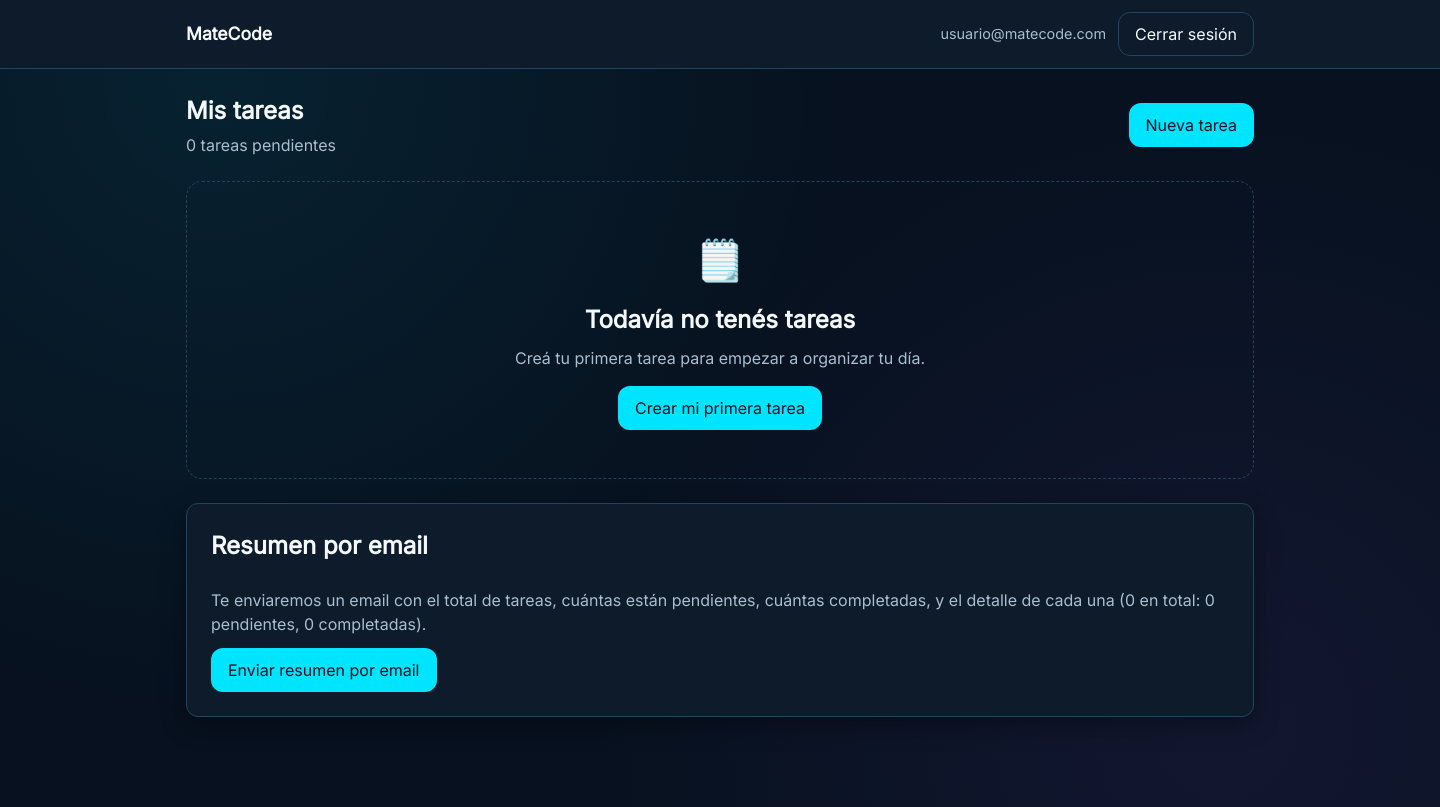
Scenario: TasksPage › no permite tener abiertos a la vez el formulario de creación y el de edición
This screenshot has width=1440, height=807.
Check: the heading "Todavía no tenés tareas" is shown, box [585, 305, 855, 334]
Click the button "Nueva tarea" at (1191, 125), box [1128, 103, 1254, 147]
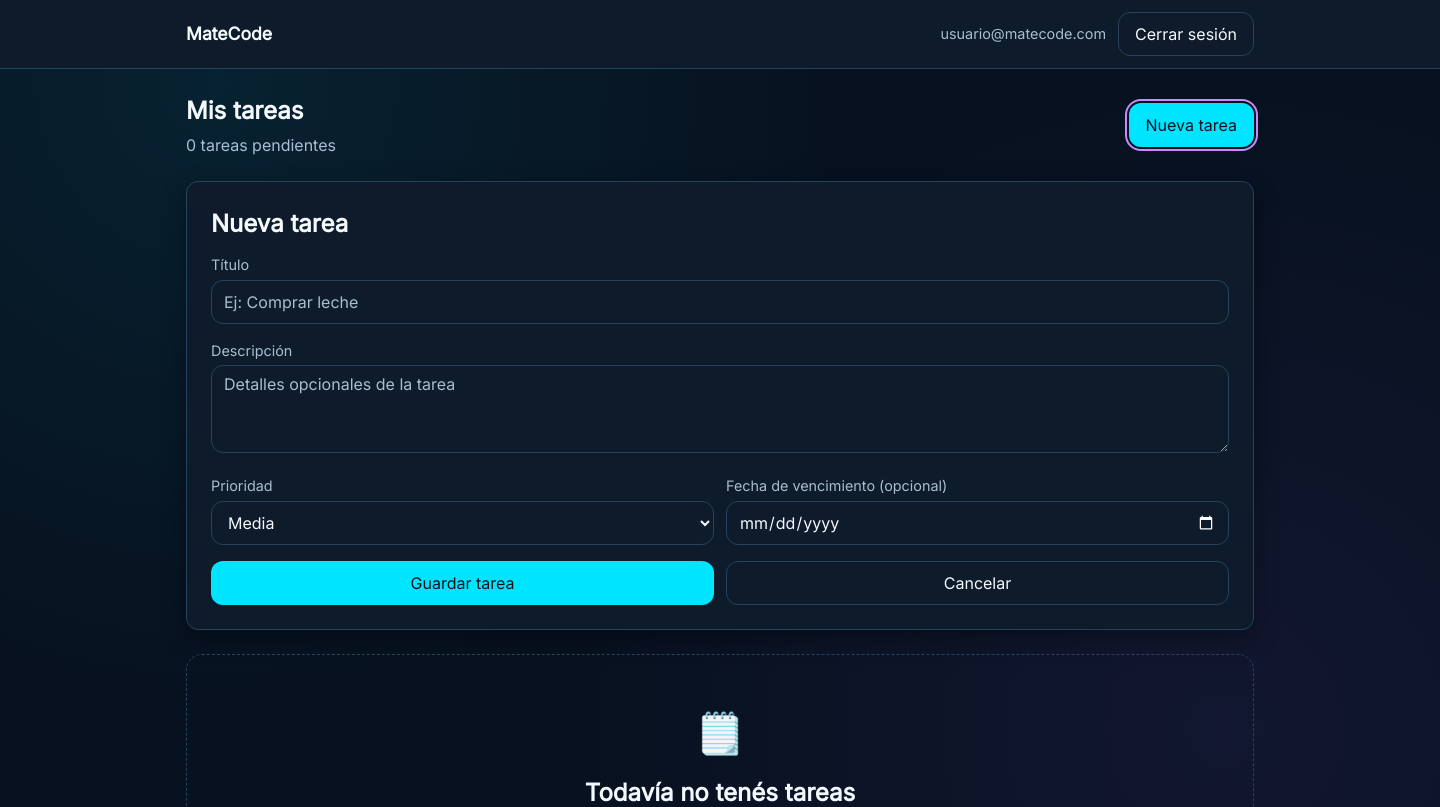
Type "Comprar leche" into the field labelled "Título" at (720, 302), box [211, 280, 1229, 324]
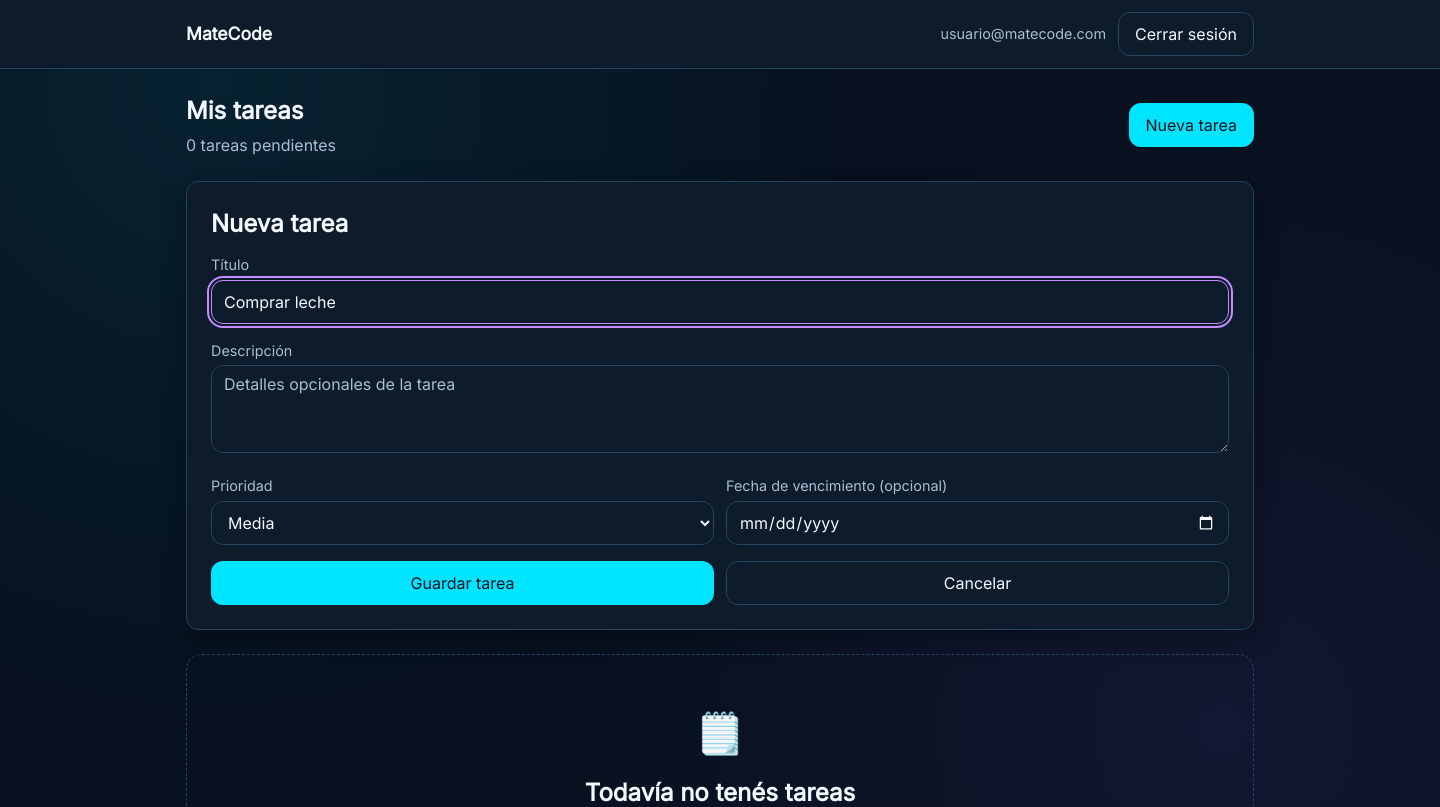
Click the button "Guardar tarea" at (462, 583), box [211, 561, 714, 605]
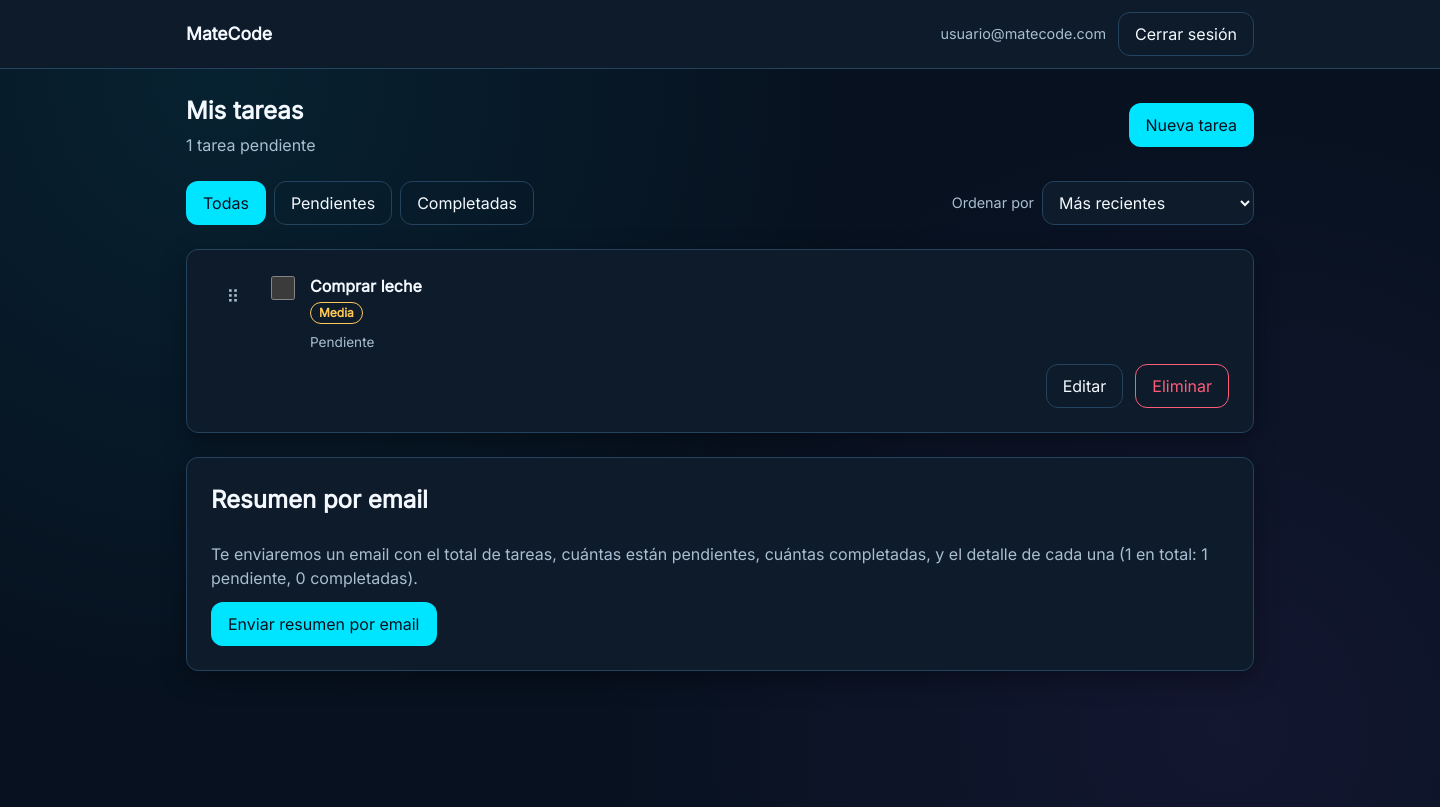
Check: the text "Comprar leche" is shown, box [310, 276, 422, 296]
Click the button "Nueva tarea" at (1191, 125), box [1128, 103, 1254, 147]
(page scrolled)
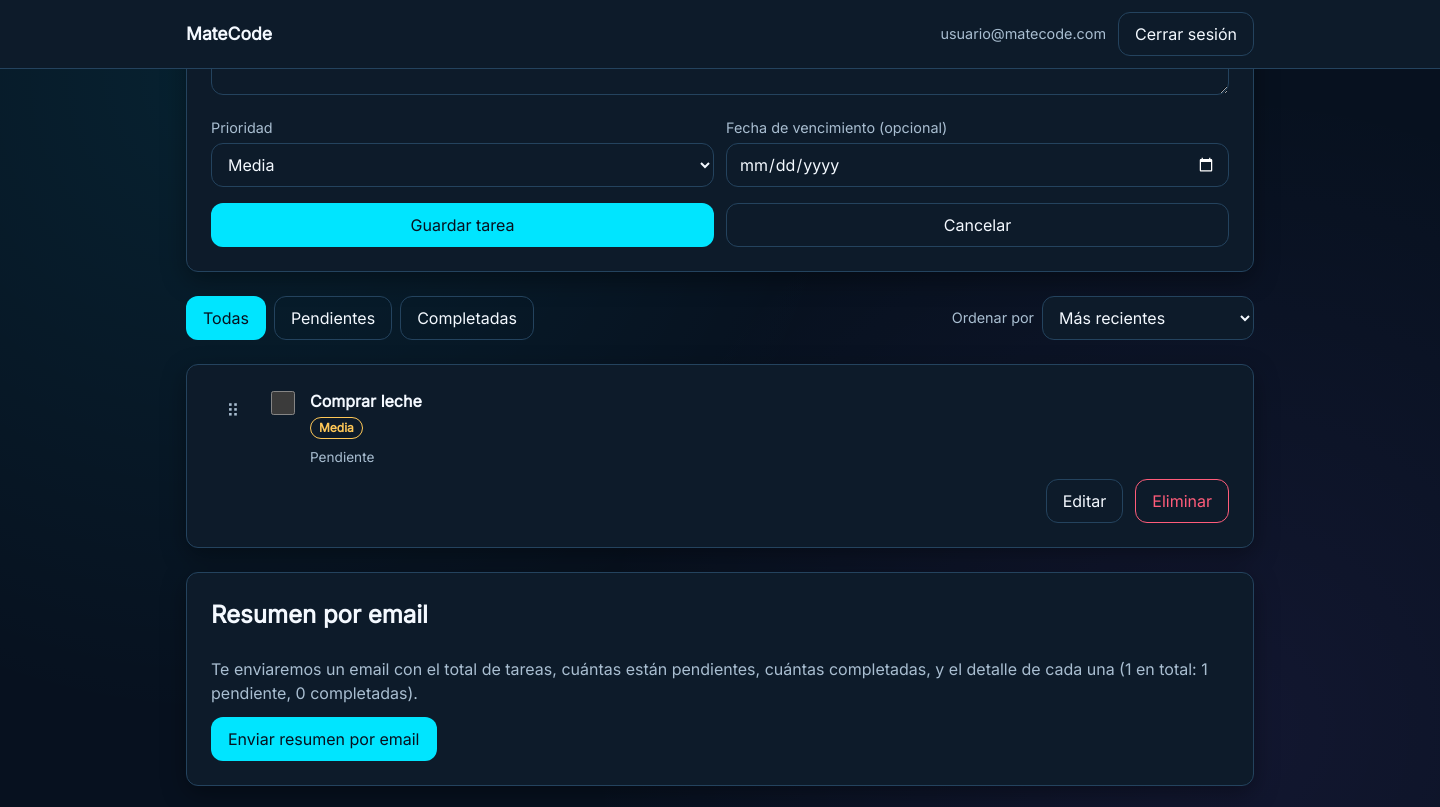
Click the button "Editar" at (1084, 501), box [1046, 479, 1123, 523]
(page scrolled)
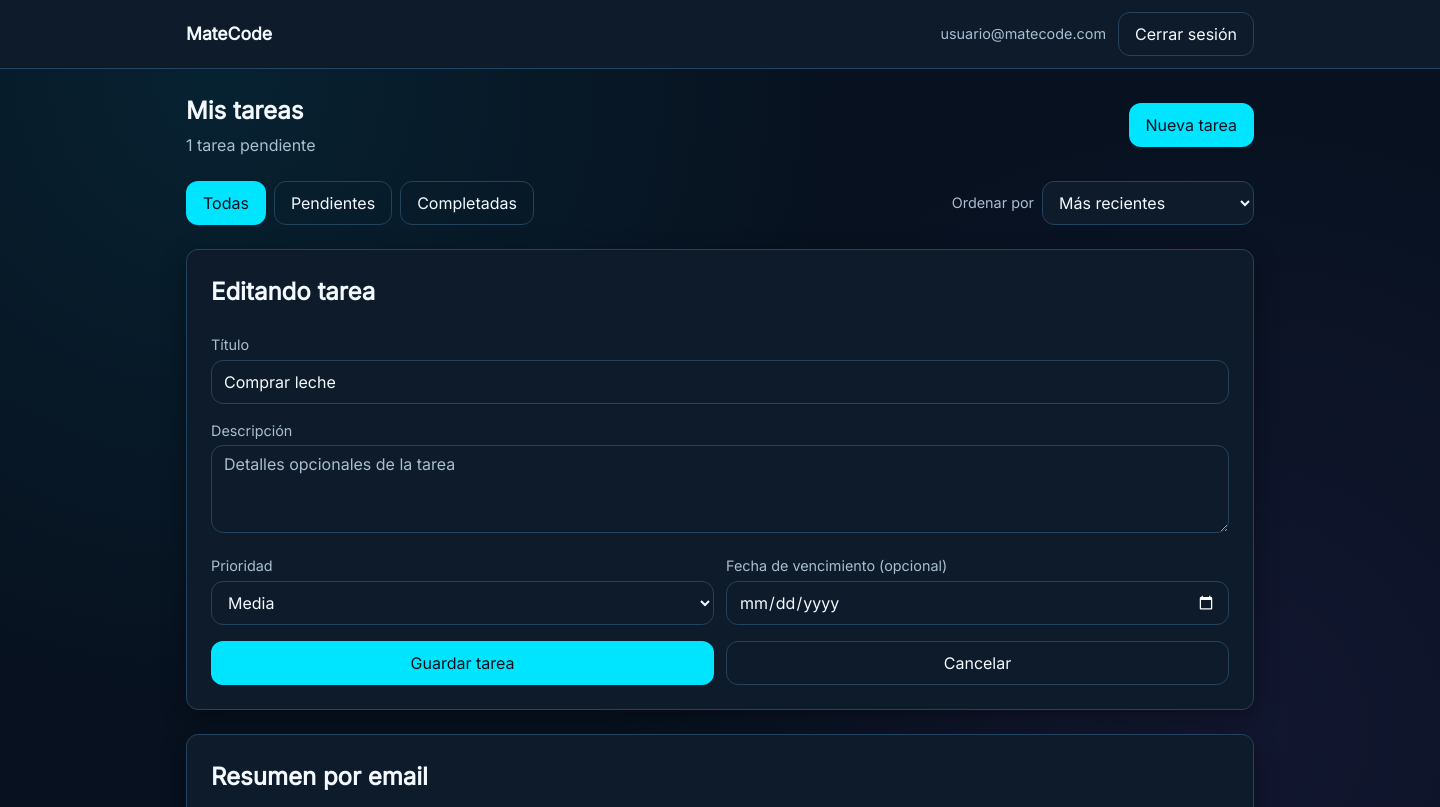
Check: the number of fields labelled "Título" is 1, box [211, 360, 1229, 404]
Click the button "Nueva tarea" at (1191, 125), box [1128, 103, 1254, 147]
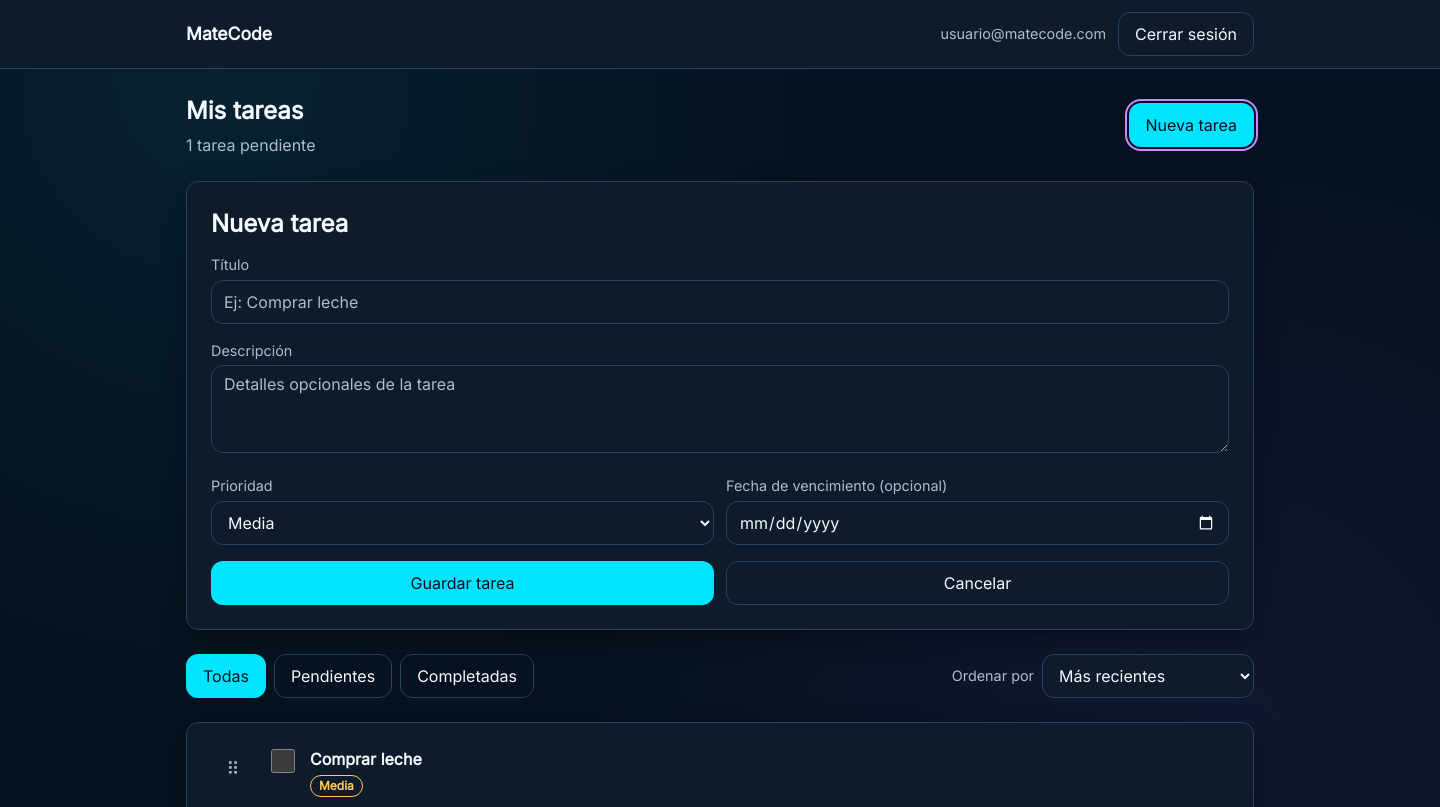
Check: the number of fields labelled "Título" is 1, box [211, 280, 1229, 324]
Check: the heading "Nueva tarea" is shown, box [211, 209, 348, 238]
